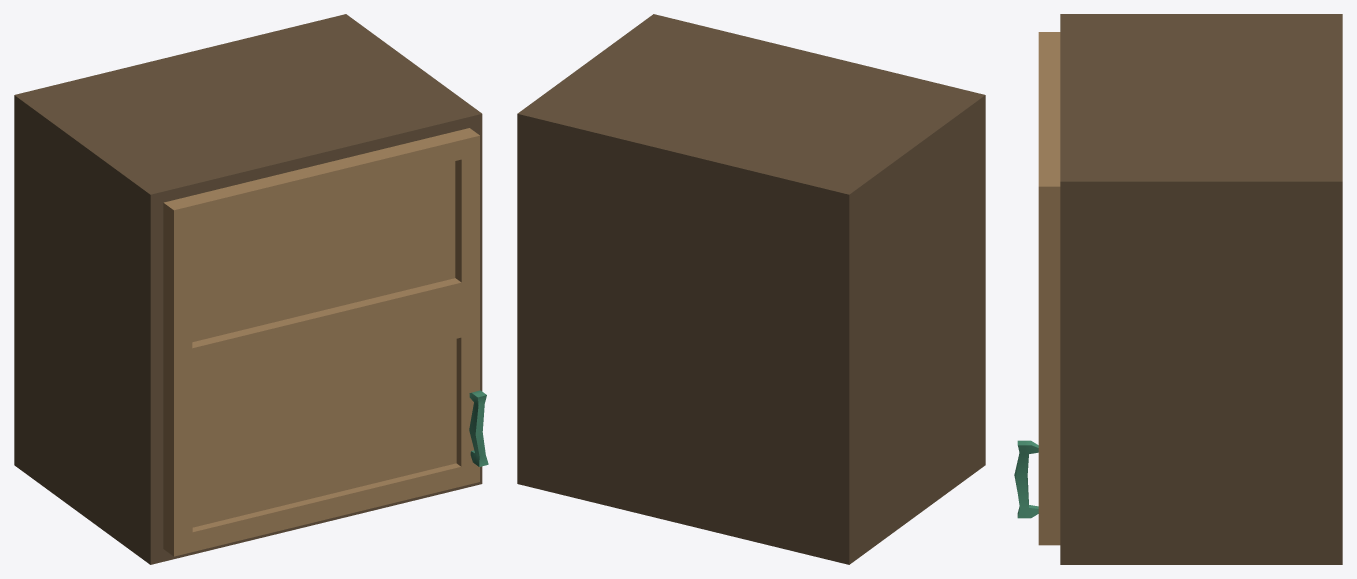
The model's file is cupboard_1_low.fbx.
The picture shows the model from 3 angles, left to right: view 1: azimuth 30°, elevation 25°; view 2: azimuth 150°, elevation 25°; view 3: azimuth 270°, elevation 25°; orthographic projection. The views are drawn at different scales.
Visible parts, largest first — view 1: cupboard_door1_low, cupboard_base_low, polySurface7; view 2: cupboard_base_low; view 3: cupboard_base_low, cupboard_door1_low, polySurface7.
Part boxes in pixels (<box>): cupboard_door1_low: <box>163,128,479,556</box>; cupboard_base_low: <box>14,14,482,564</box>; polySurface7: <box>469,390,488,466</box>; cupboard_base_low: <box>517,14,985,564</box>; cupboard_base_low: <box>1060,14,1342,564</box>; cupboard_door1_low: <box>1038,32,1060,545</box>; polySurface7: <box>1014,440,1038,518</box>.
Bounding box in the file's own units: 5.9 × 6.29 × 4.88.
